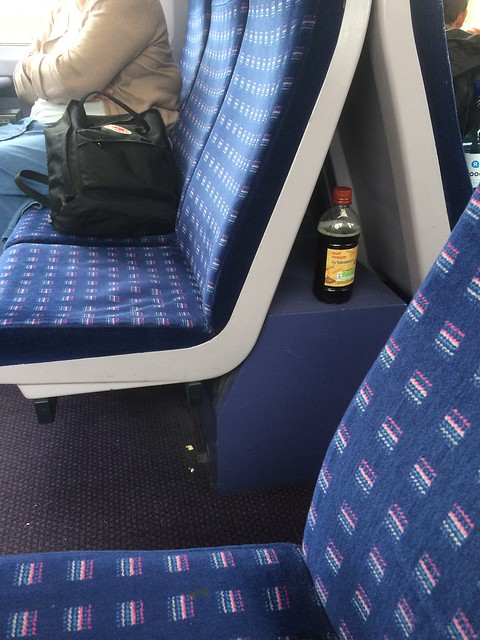bottle: (304, 182, 369, 305)
